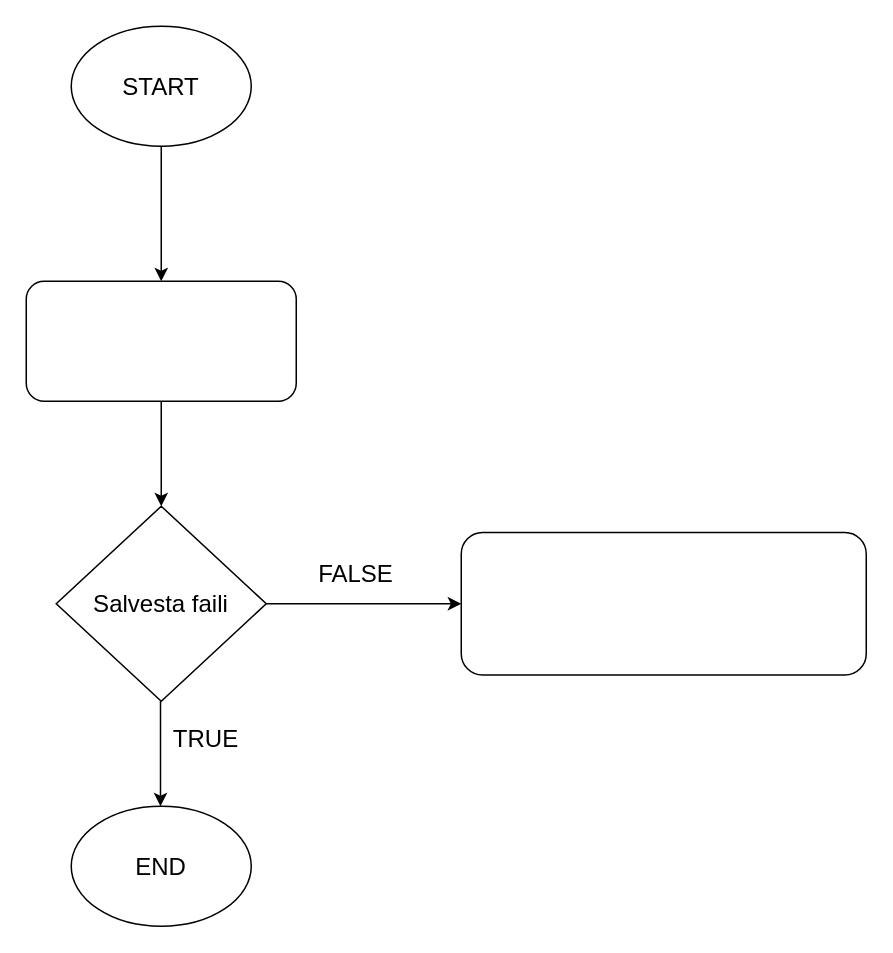
The diagram is 893 pixels wide and 953 high, and some of its shapes have lost their labels. The shapes that lost their labels are listed below. From the top down, each one's box as (x1, y1, x2, y2) in pixels, then its label:
(25, 280, 296, 401): Sisesta teksti
(460, 531, 866, 675): Error, sest see koht ei ole arvutis olemas. Salvestamine on võimatu
